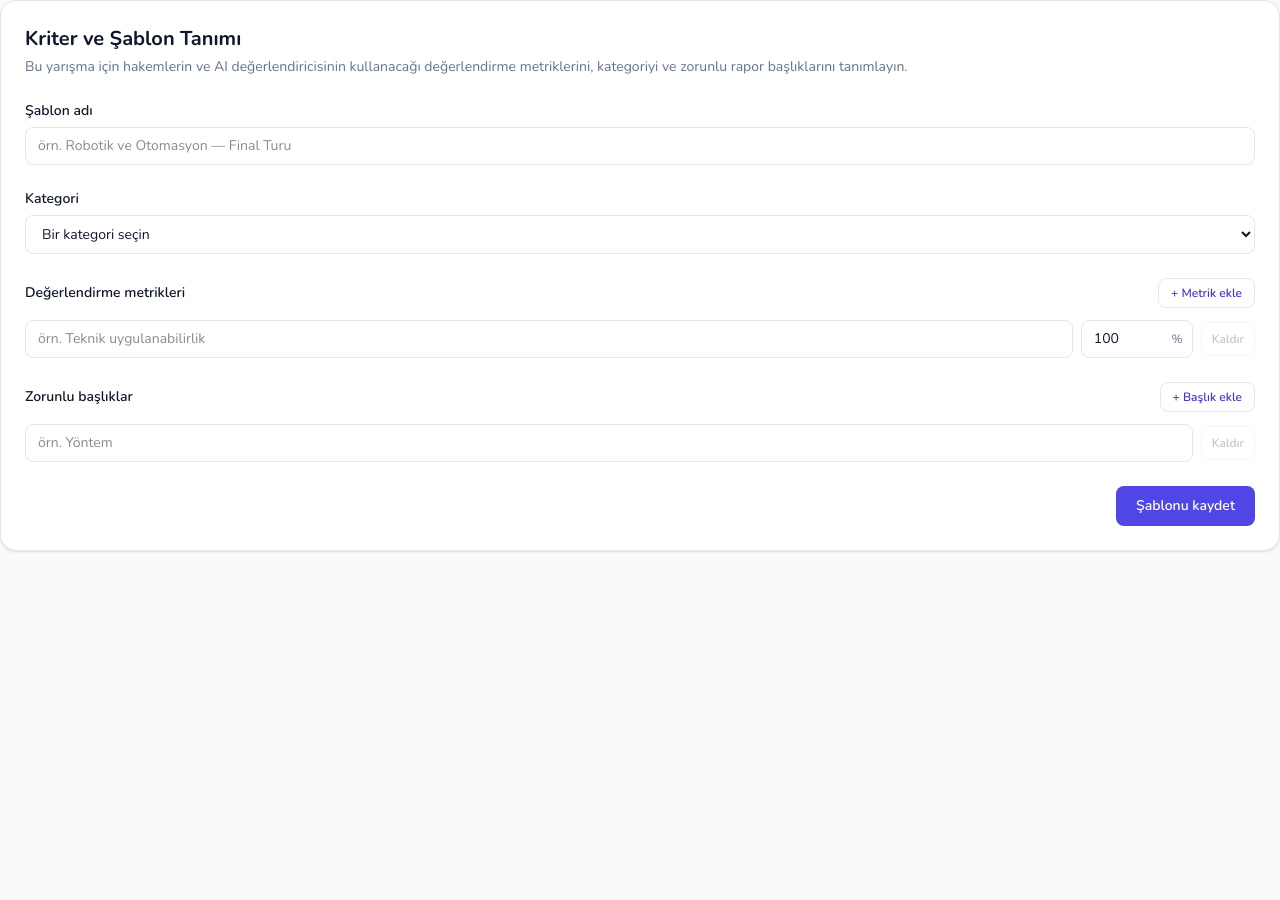
Test: CriteriaTemplateForm › rejects a template name shorter than 3 characters
Type "AI" into the field labelled "Şablon adı".
click(640, 146); type("AI")  # box [25,127,1255,165]
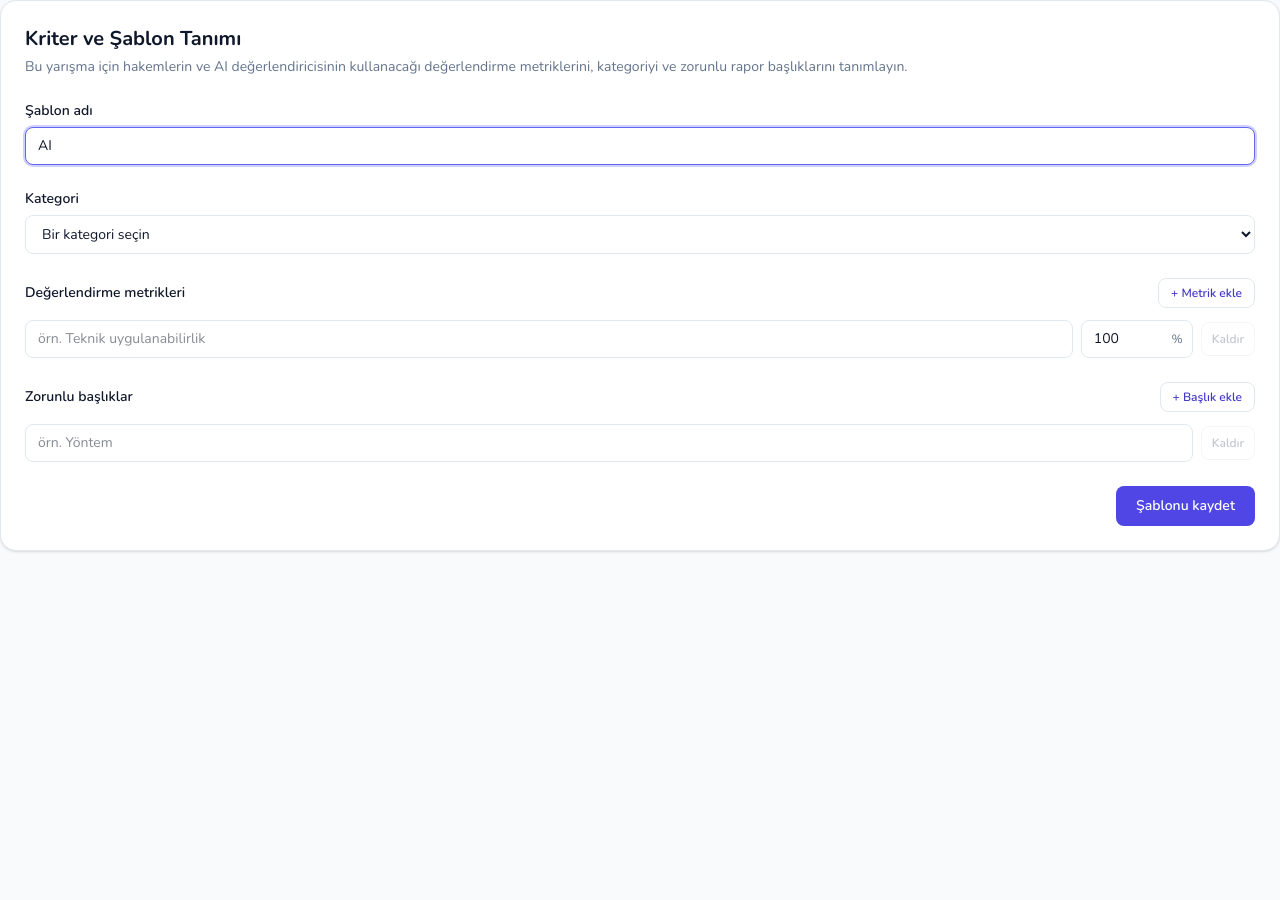
Click the button "Şablonu kaydet".
click(1186, 506)  # box [1116,486,1255,526]
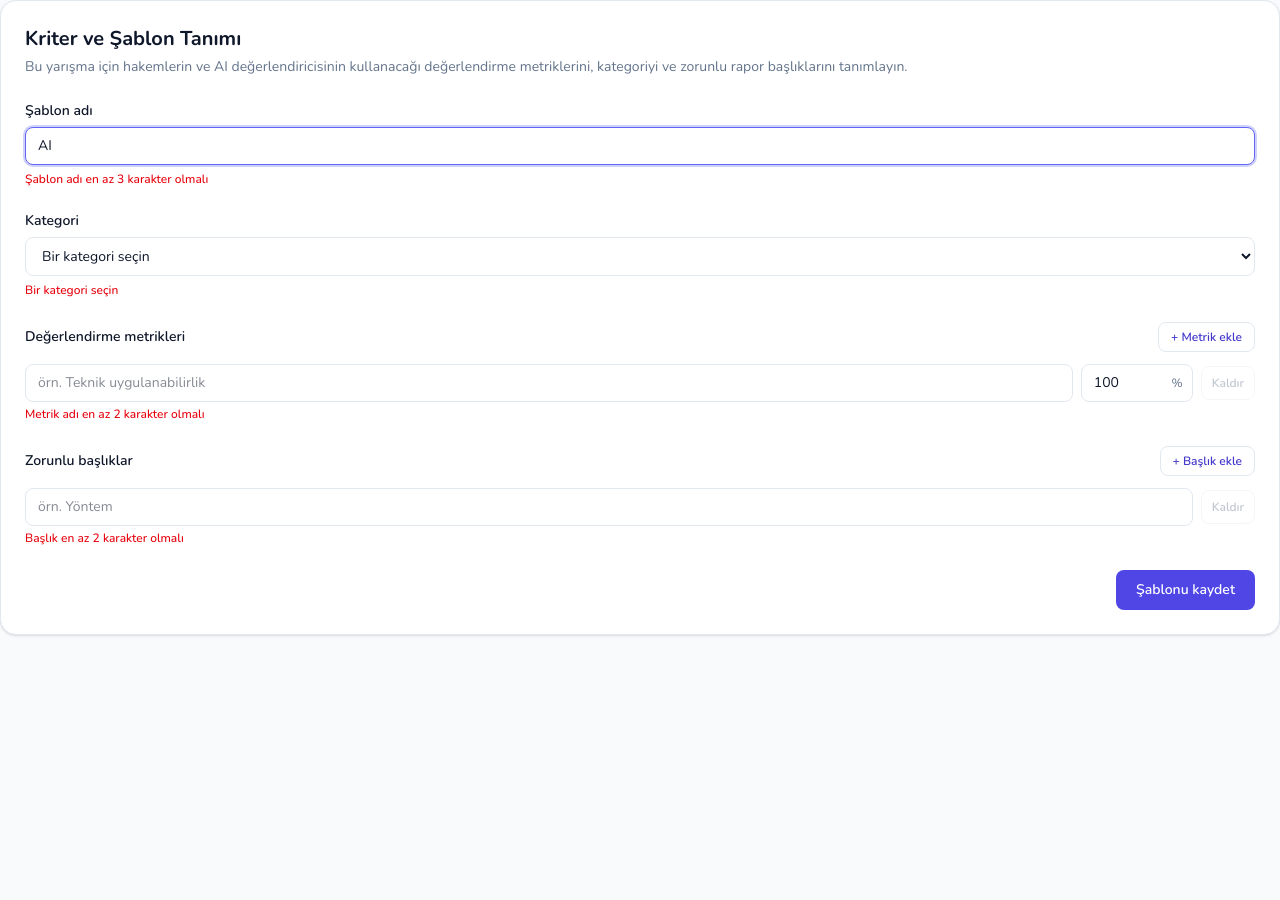
Now the text "Şablon adı en az 3 karakter olmalı" is shown, box [25,171,208,187]
